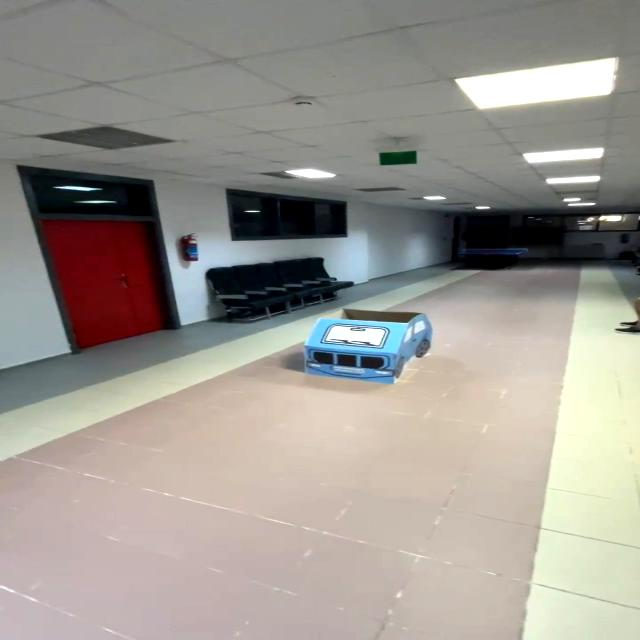blue_car: (278, 294, 447, 395)
